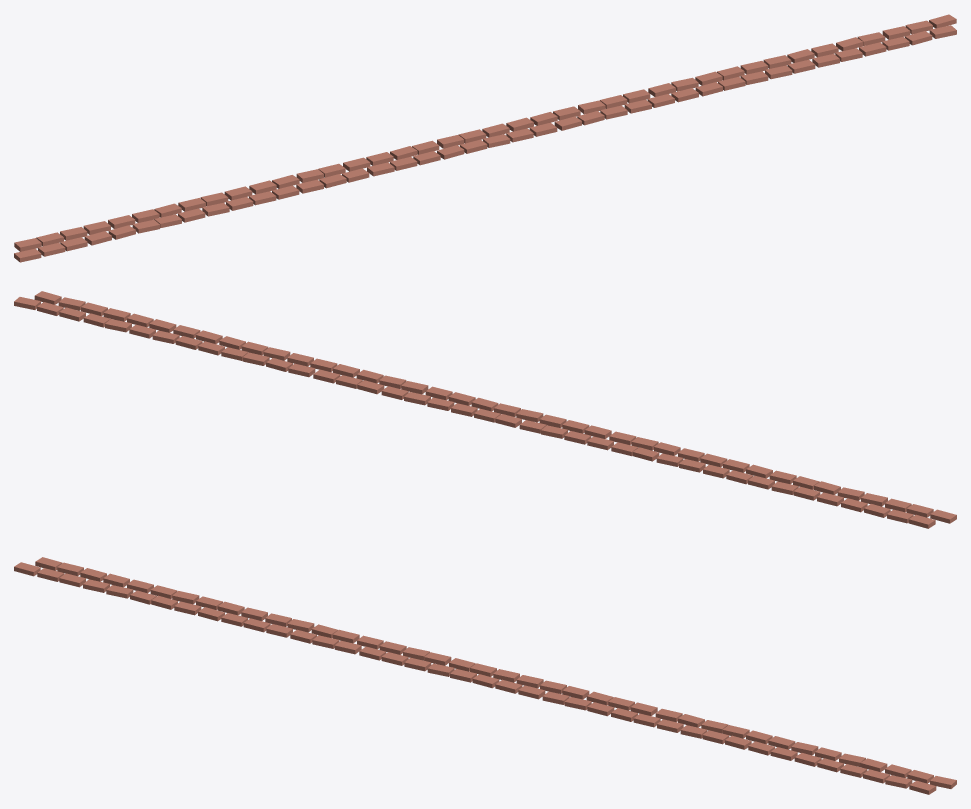
The model's file is brick_path.glb.
The picture shows the model from 3 angles, top to bottom: view 1: azimuth 30°, elevation 25°; view 2: azimuth 150°, elevation 25°; view 3: azimuth 330°, elevation 25°; orthographic projection. The views are drawn at different scales.
Parts seen in each view (by area): view 1: BrickPath.001; view 2: BrickPath.001; view 3: BrickPath.001.
Boxes of the visible parts, x1,y1,x2,y2 form: BrickPath.001: (14, 14, 956, 262); BrickPath.001: (14, 291, 956, 528); BrickPath.001: (14, 557, 956, 794).
Size of the model in its own units: 18.17 by 0.08 by 0.607.
